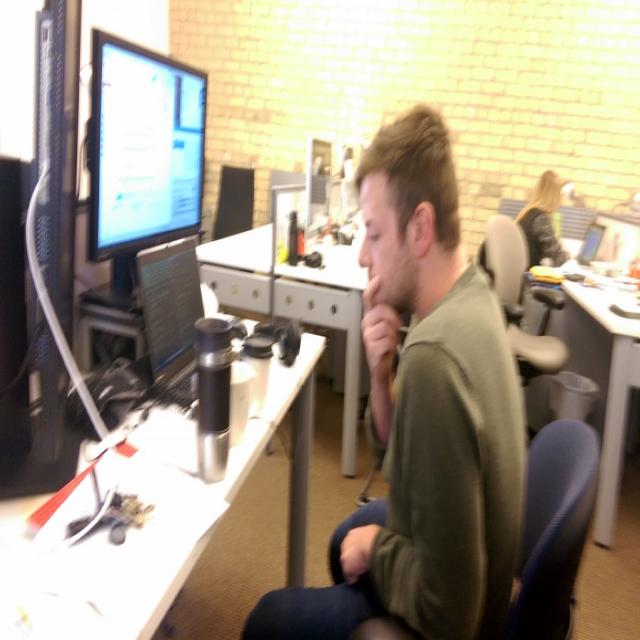chair: (508, 418, 600, 636)
desk: (0, 333, 321, 640)
laptop: (136, 240, 205, 399)
person: (242, 104, 527, 640), (515, 170, 574, 270)
tv: (88, 28, 208, 268)
